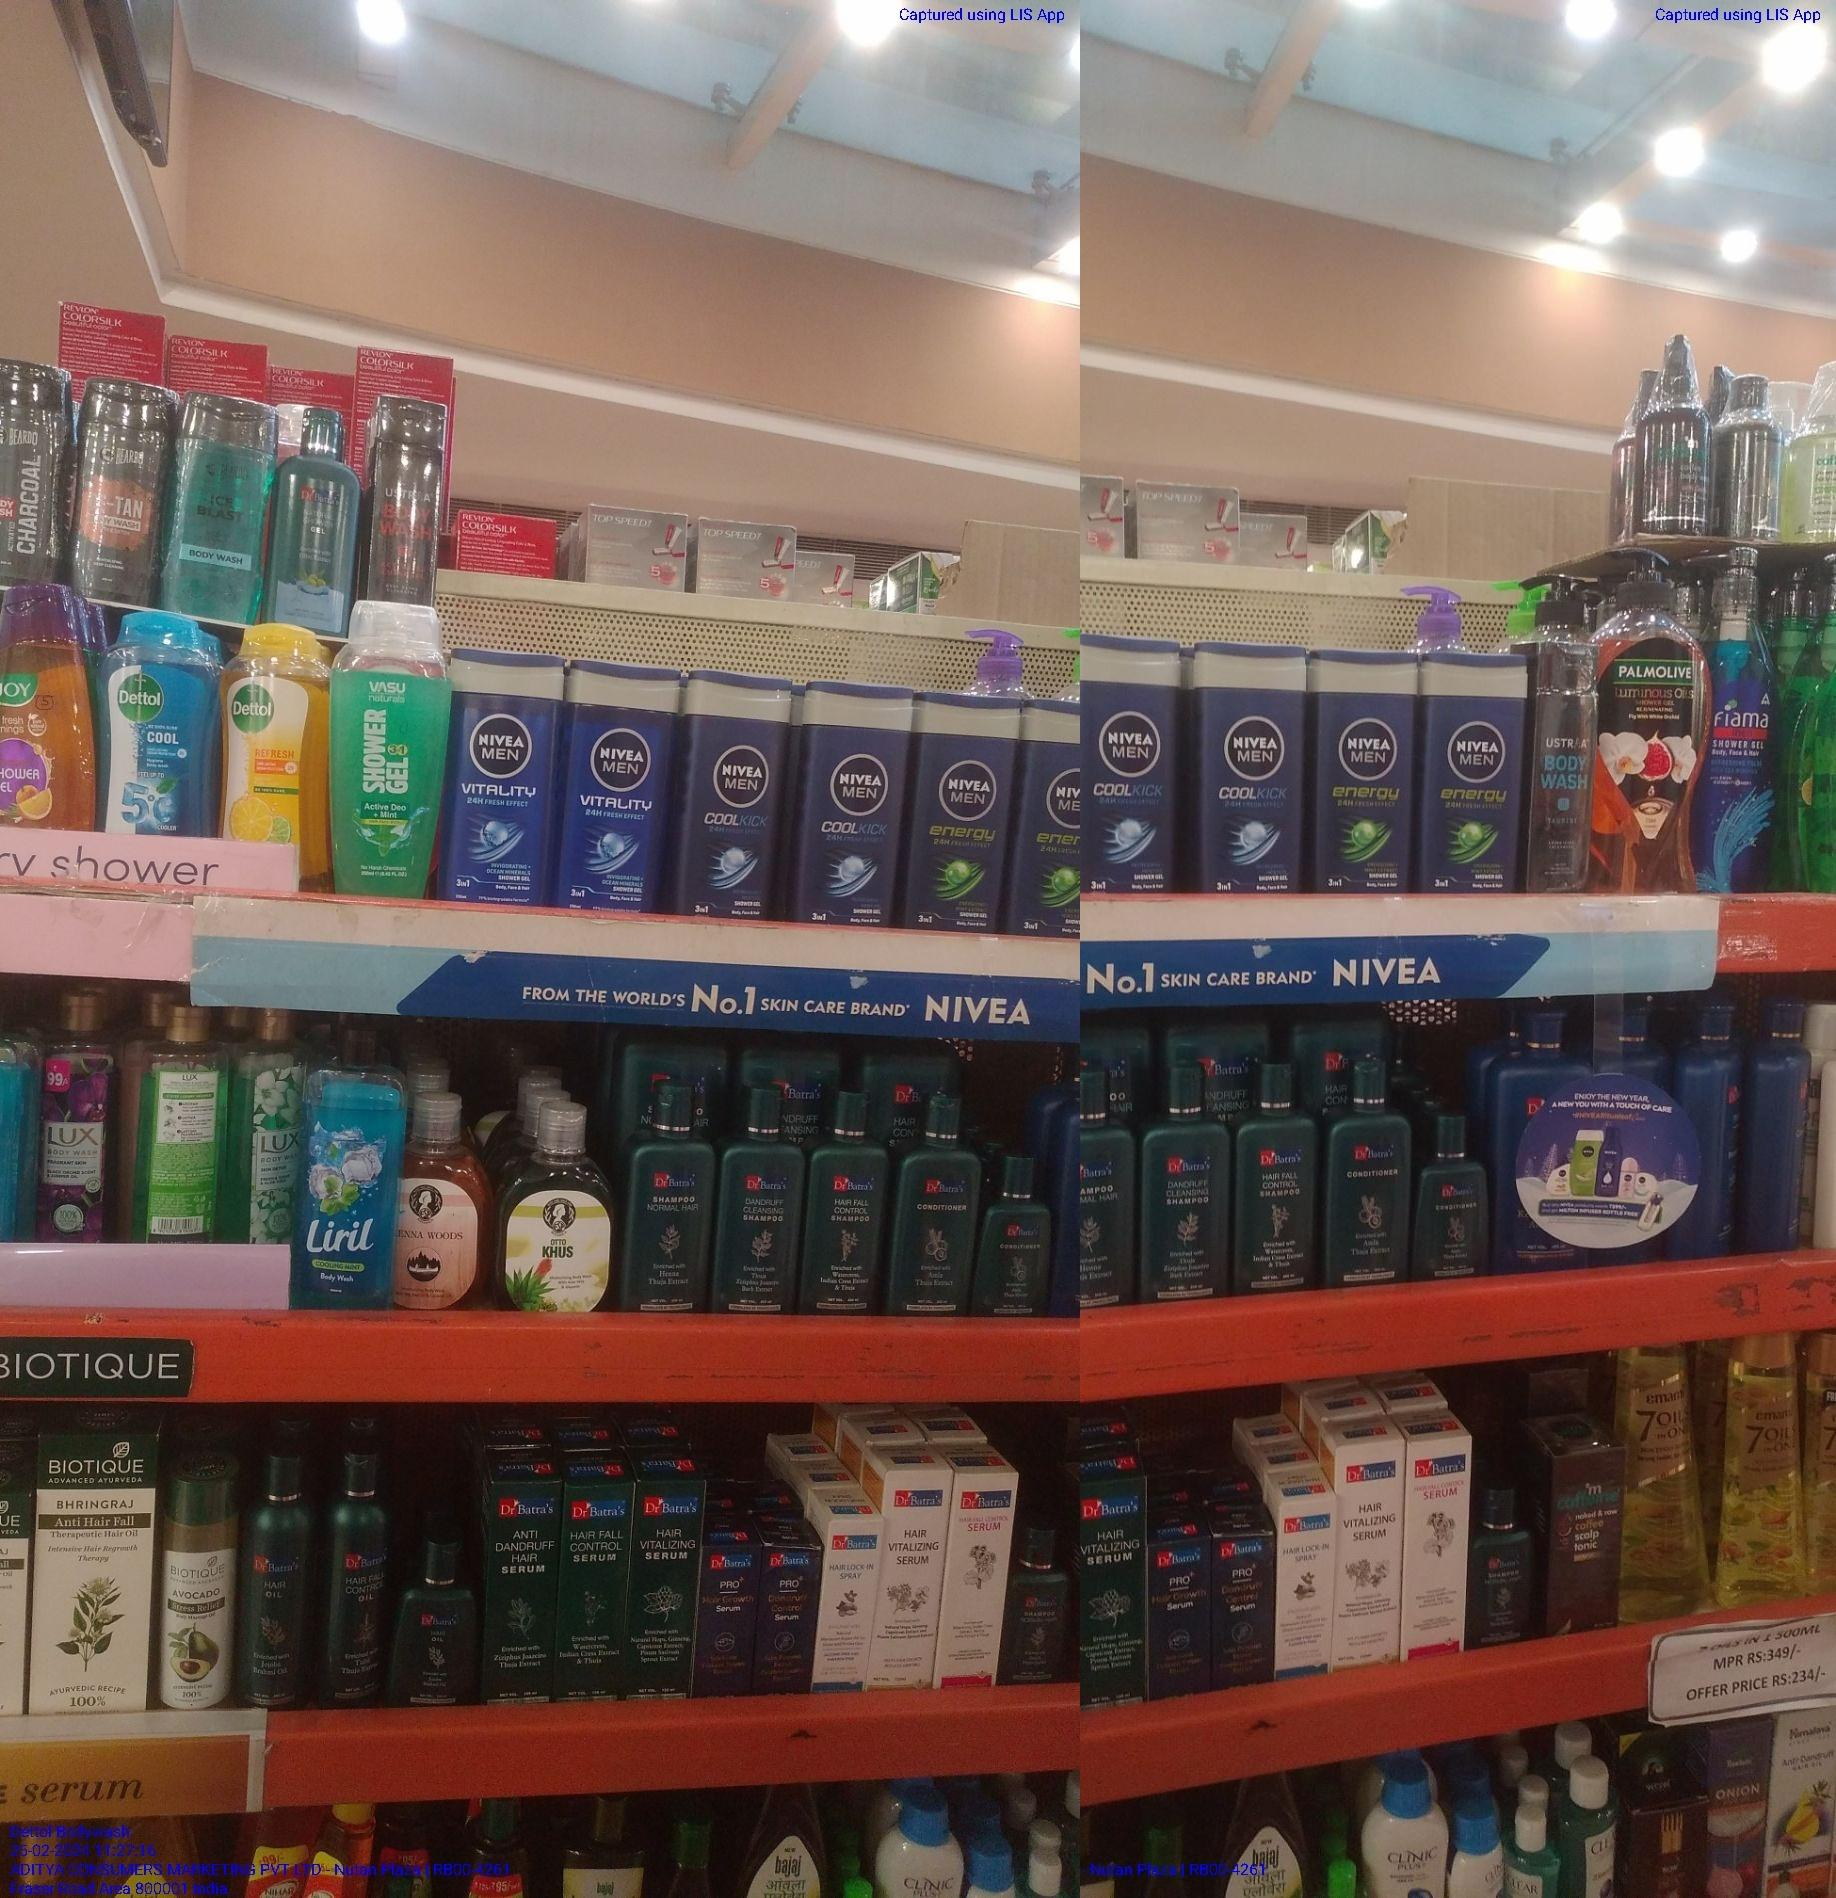Dettol_Bodywash_Cool: (105, 610, 222, 835)
Dettol_Bodywash_Refresh: (229, 622, 324, 880)
Joy_Shower_Gel_Mandarin_and_Lemongrass_250ML: (7, 581, 98, 830)
Liril_Cooling_Mint_Body_Wash_250ML: (297, 1027, 402, 1312)
Lux_Black_Orchid_Scent_and_Juniper_Oil_Body_Wash_245ML: (42, 995, 115, 1244)
Lux_Body_Wash_Skin_Detox_Freesia_Scent_and_Alove_Vera_245ML: (246, 1007, 295, 1249)
